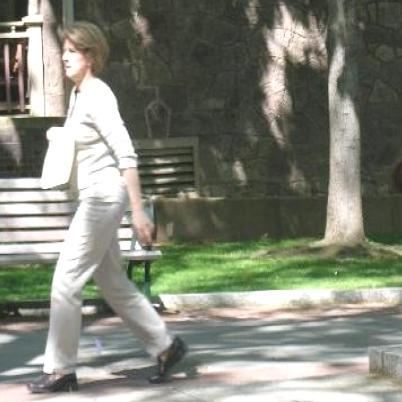ped: (31, 22, 190, 390)
